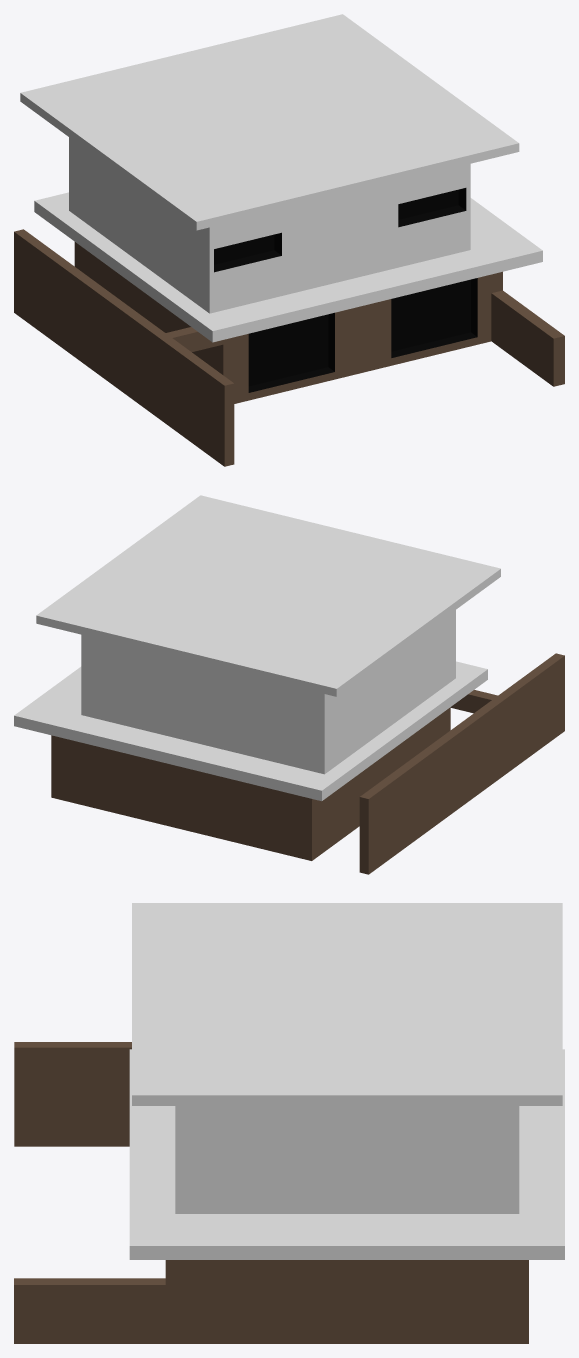
Rendered from loja_35.fbx.
3 views of the same model, one above another, from view 1: azimuth 30°, elevation 25°; view 2: azimuth 150°, elevation 25°; view 3: azimuth 270°, elevation 25° (orthographic). The views are drawn at different scales.
Parts seen in each view (by area): view 1: Cube.001; view 2: Cube.001; view 3: Cube.001.
Boxes of the visible parts, x1=… form: Cube.001: x1=14, y1=14, x2=564, y2=466; Cube.001: x1=14, y1=495, x2=564, y2=874; Cube.001: x1=14, y1=903, x2=564, y2=1343.
Bounding box in the file's own units: 2380 × 1274 × 2543.
